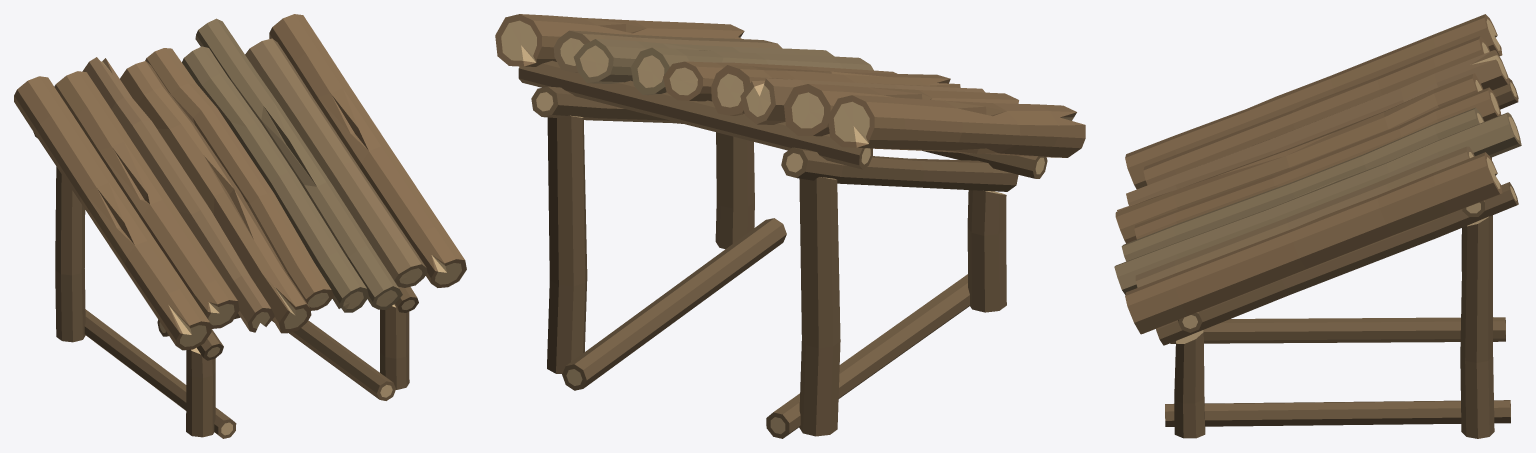
Rendered from rpgpp_ag_shed_wood_02a.fbx.
3 views of the same model, side by side, from view 1: azimuth 30°, elevation 25°; view 2: azimuth 150°, elevation 25°; view 3: azimuth 270°, elevation 25° (orthographic). The views are drawn at different scales.
Visible parts, largest first — view 1: rpgpp_ag_shed_wood_02a; view 2: rpgpp_ag_shed_wood_02a; view 3: rpgpp_ag_shed_wood_02a.
Boxes of the visible parts, box(x1,y1,x2,y2) form: rpgpp_ag_shed_wood_02a: box(14, 14, 466, 438); rpgpp_ag_shed_wood_02a: box(495, 14, 1085, 438); rpgpp_ag_shed_wood_02a: box(1114, 14, 1521, 438).
Bounding box in the file's own units: 2.74 × 2.47 × 2.99.
